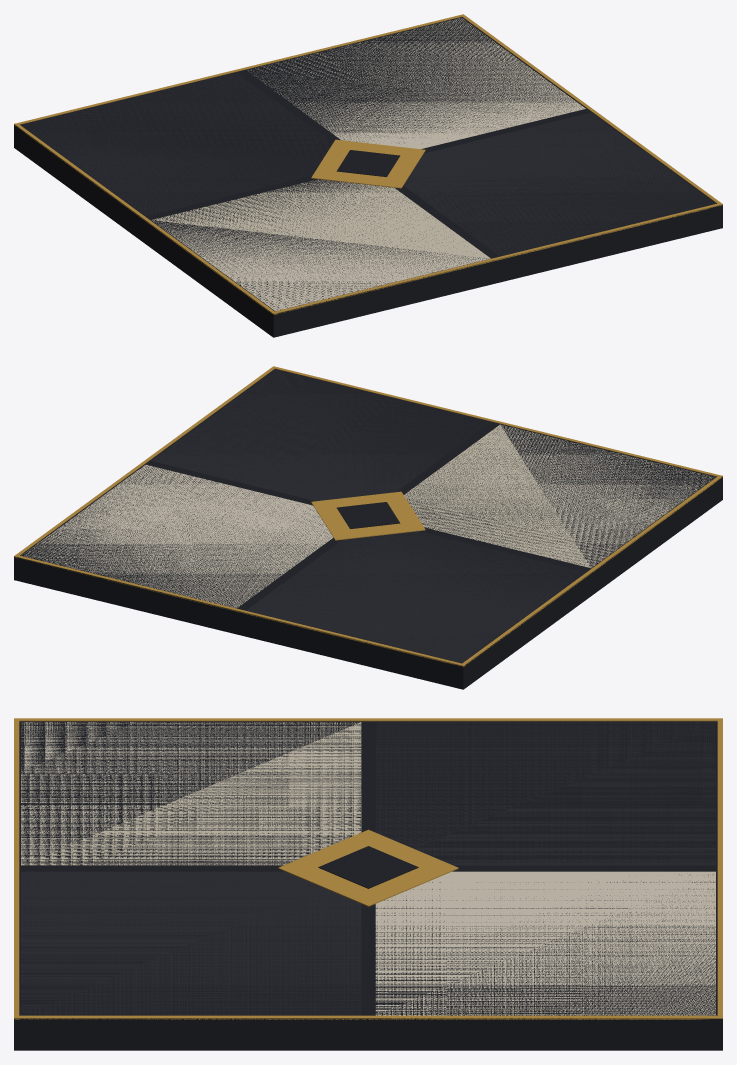
The model's file is kit-newyork-floor.glb.
3 renders of one model, top to bottom at view 1: azimuth 30°, elevation 25°; view 2: azimuth 150°, elevation 25°; view 3: azimuth 270°, elevation 25°, orthographic. The views are drawn at different scales.
Parts seen in each view (by area): view 1: kit-newyork-floor; view 2: kit-newyork-floor; view 3: kit-newyork-floor.
Part boxes in pixels (x1,y1,x2,y2): kit-newyork-floor: (14,14,722,337); kit-newyork-floor: (14,366,722,689); kit-newyork-floor: (14,718,722,1050).
Bounding box in the file's own units: 2 × 0.105 × 2.
